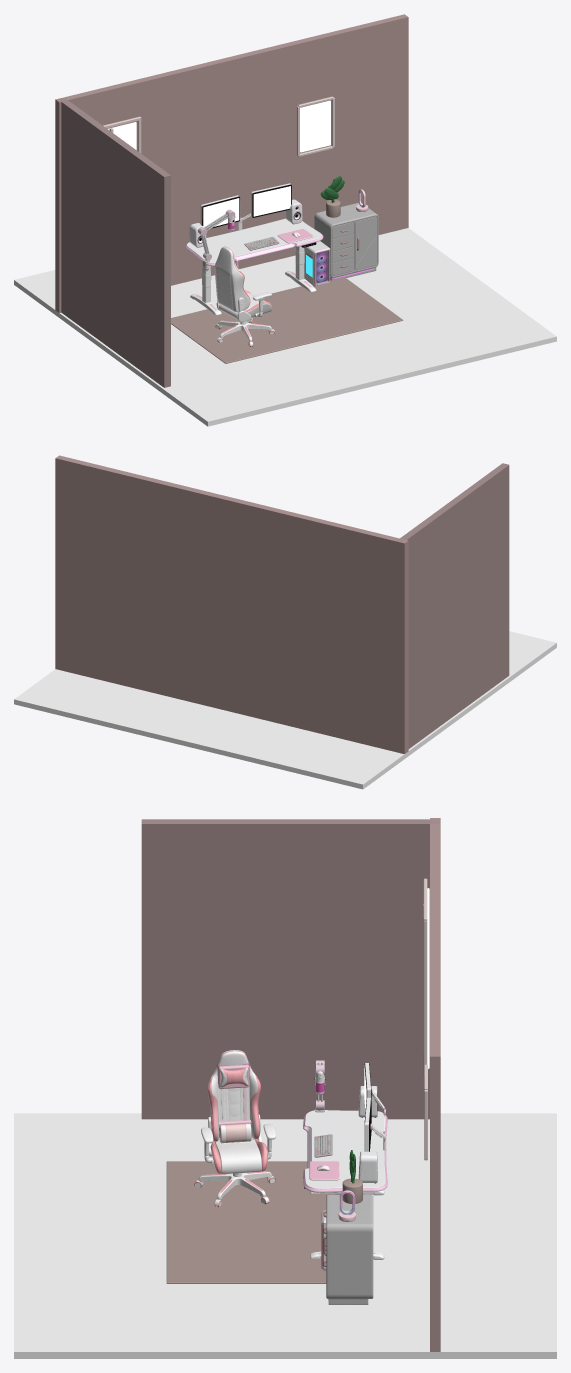
The picture shows the model from 3 angles, top to bottom: view 1: azimuth 30°, elevation 25°; view 2: azimuth 150°, elevation 25°; view 3: azimuth 270°, elevation 25°; orthographic projection. The views are drawn at different scales.
Visible parts, largest first — view 1: Architecture_Back_Wall, Architecture_Floor, Architecture_Left_Wall, Decor_Rug, GEO_Desk_Moving_Top, GEO_Chair_Swivel_Upper, GEO_Cabinet_Body, Wall_Art_Art, GEO_Door_Right_Front, 04-pc-tower_mesh_01, Screen_Right, GEO_Desk_Fixed_Base (+2 smaller); view 2: Architecture_Back_Wall, Architecture_Left_Wall, Architecture_Floor; view 3: Architecture_Floor, Architecture_Left_Wall, Decor_Rug, Architecture_Back_Wall, GEO_Chair_Swivel_Upper, GEO_Cabinet_Body, GEO_Desk_Moving_Top, GEO_Chair_Static_Base, Window_Frame_V.001.
Boxes of the visible parts, x1,y1,x2,y2 form: Architecture_Back_Wall: (55, 14, 408, 312); Architecture_Floor: (14, 228, 556, 426); Architecture_Left_Wall: (58, 98, 170, 387); Decor_Rug: (171, 277, 403, 363); GEO_Desk_Moving_Top: (185, 218, 323, 274); GEO_Chair_Swivel_Upper: (215, 246, 272, 321); GEO_Cabinet_Body: (314, 202, 378, 280); Wall_Art_Art: (300, 100, 330, 152); GEO_Door_Right_Front: (355, 216, 377, 270); 04-pc-tower_mesh_01: (304, 241, 330, 286); Screen_Right: (253, 186, 290, 216); GEO_Desk_Fixed_Base: (190, 263, 316, 315); Architecture_Back_Wall: (55, 455, 408, 753); Architecture_Left_Wall: (396, 463, 509, 748); Architecture_Floor: (14, 631, 556, 789); Architecture_Floor: (14, 1113, 556, 1358); Architecture_Left_Wall: (141, 819, 440, 1119); Decor_Rug: (166, 1161, 334, 1283); Architecture_Back_Wall: (430, 818, 440, 1351); GEO_Chair_Swivel_Upper: (201, 1050, 275, 1173); GEO_Cabinet_Body: (326, 1194, 373, 1304); GEO_Desk_Moving_Top: (303, 1110, 387, 1194); GEO_Chair_Static_Base: (194, 1171, 275, 1206); Window_Frame_V.001: (423, 921, 427, 1075).
Size of the model in its own units: 5.2 by 3.07 by 5.
Materials: 32 (13 with a texture image).
